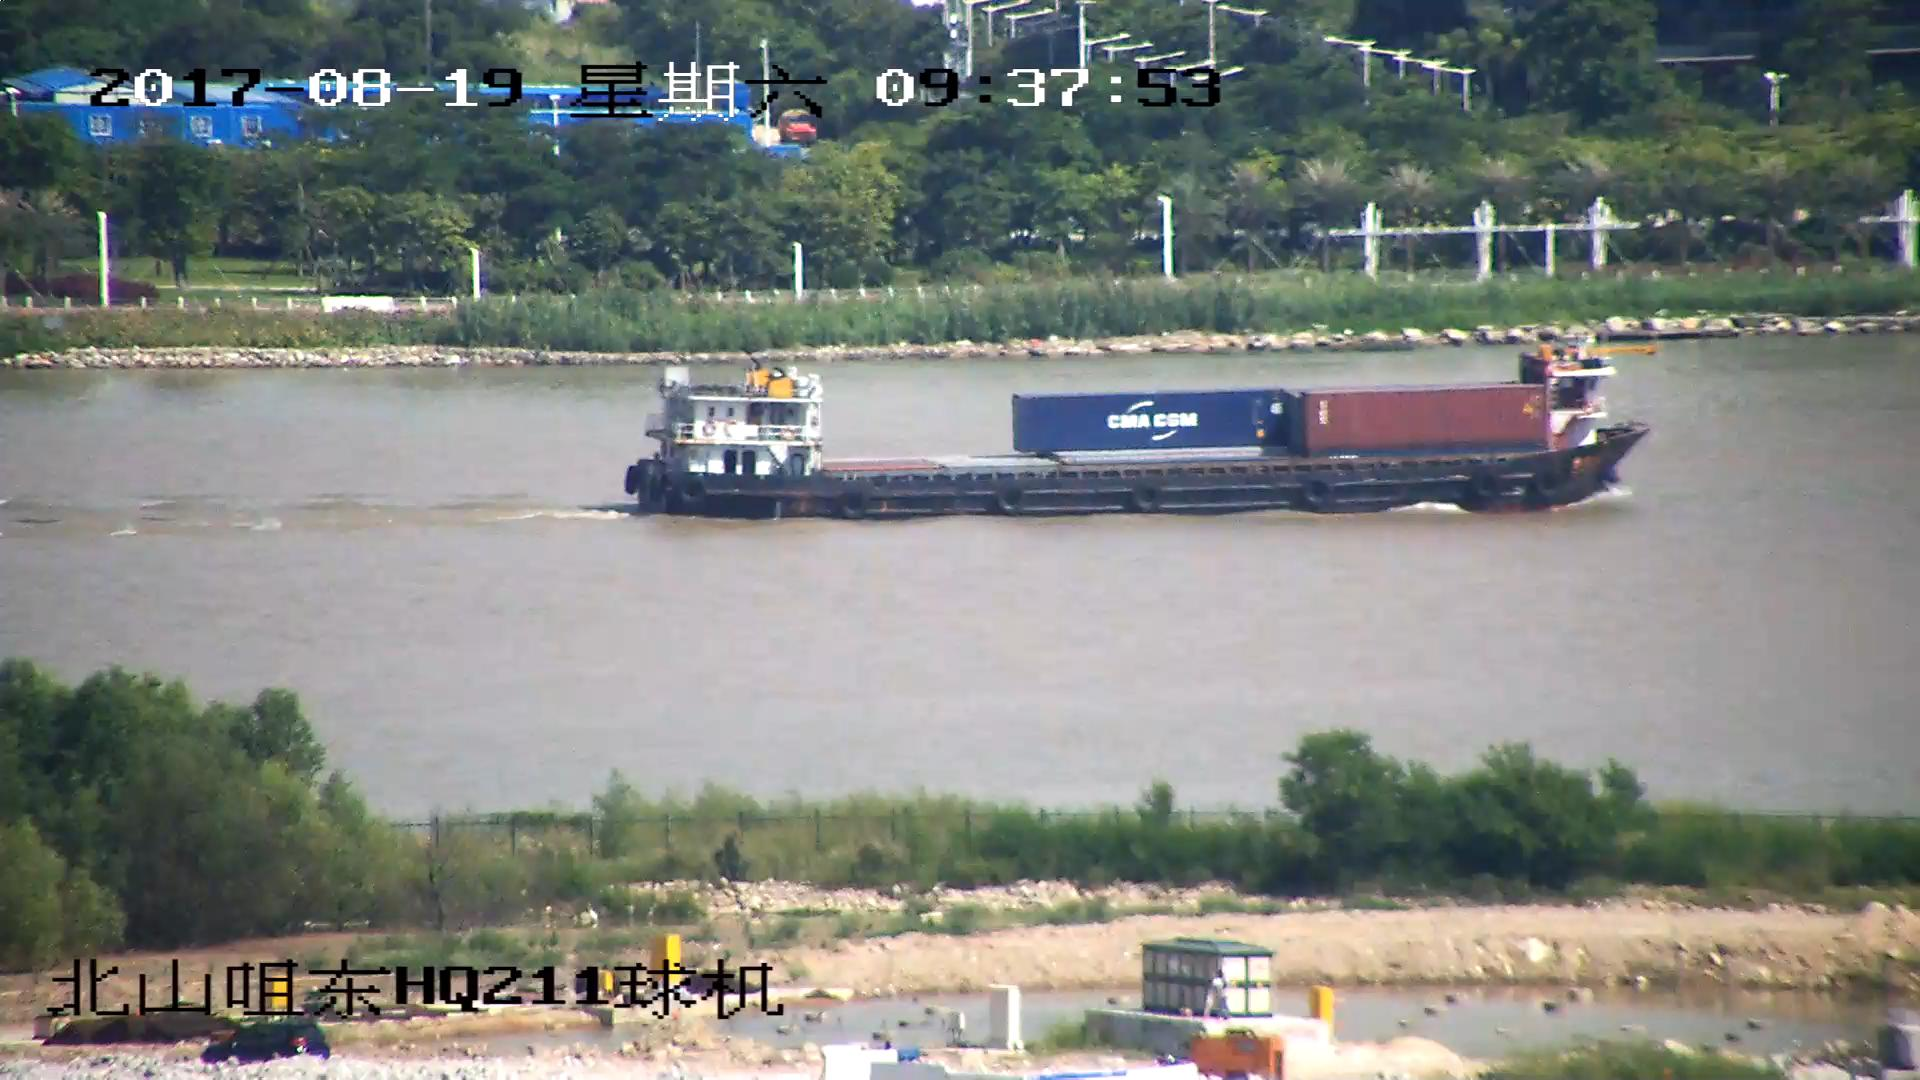container ship: (624, 348, 1654, 520)
